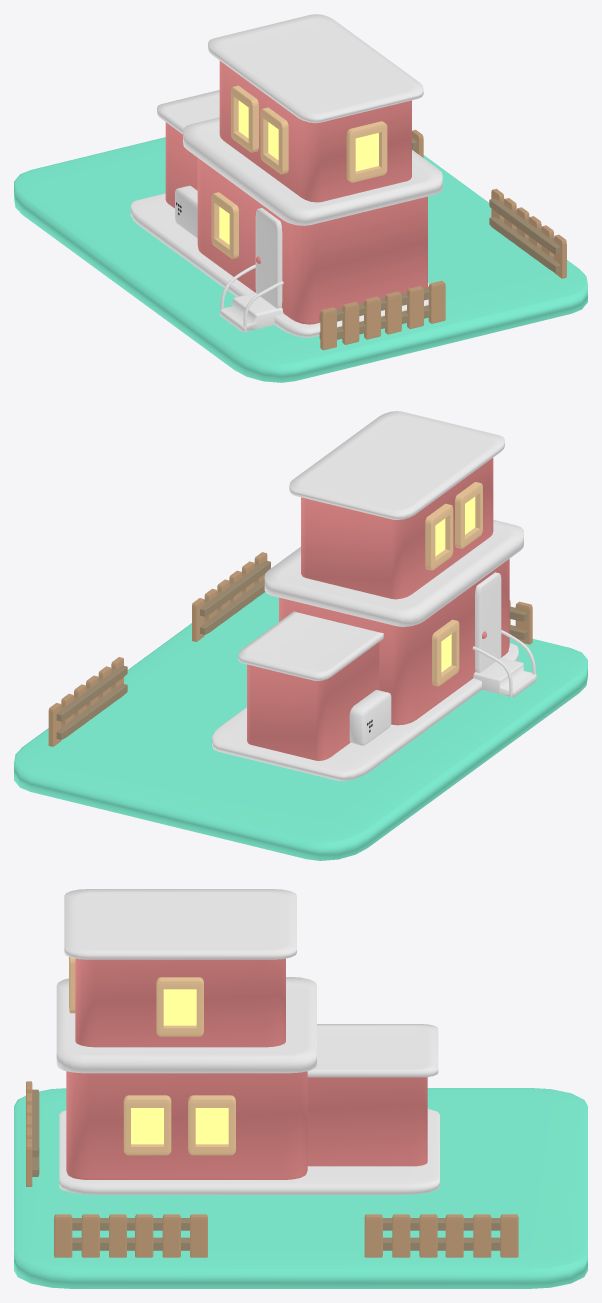
Rendered from house3.glb.
3 views of the same model, one above another, from view 1: azimuth 30°, elevation 25°; view 2: azimuth 150°, elevation 25°; view 3: azimuth 270°, elevation 25° (orthographic). The views are drawn at different scales.
Parts seen in each view (by area): view 1: Roundcube.010, Roundcube, Roundcube.001, Roundcube.009, Roundcube.002, Roundcube.003, Roundcube.005, Roundcube.004, Roundcube.006, Roundcube.007, Roundcube.008, Circle.001 (+9 smaller); view 2: Roundcube.010, Roundcube.001, Roundcube, Roundcube.002, Roundcube.009, Roundcube.003, Circle.001, Roundcube.006, Roundcube.004, Roundcube.007, Roundcube.008, Roundcube.029 (+3 smaller); view 3: Roundcube.010, Roundcube.001, Roundcube, Roundcube.002, Roundcube.009, Roundcube.035, Roundcube.036, Roundcube.037, Roundcube.025, Roundcube.020, Roundcube.034, Roundcube.033 (+13 smaller).
Part boxes in pixels (<box>): Roundcube.010: <box>14,137,587,382</box>; Roundcube: <box>183,117,442,324</box>; Roundcube.001: <box>208,14,423,202</box>; Roundcube.009: <box>130,193,429,337</box>; Roundcube.002: <box>157,90,219,208</box>; Roundcube.003: <box>255,208,282,308</box>; Roundcube.005: <box>346,121,387,182</box>; Roundcube.004: <box>260,107,288,174</box>; Roundcube.006: <box>231,85,258,152</box>; Roundcube.007: <box>211,192,238,258</box>; Roundcube.008: <box>220,292,283,332</box>; Circle.001: <box>175,185,197,238</box>; Roundcube.010: <box>14,592,587,860</box>; Roundcube.001: <box>289,411,504,599</box>; Roundcube: <box>264,519,523,725</box>; Roundcube.002: <box>238,611,383,760</box>; Roundcube.009: <box>212,643,518,781</box>; Roundcube.003: <box>475,572,501,672</box>; Circle.001: <box>349,690,391,745</box>; Roundcube.006: <box>425,503,453,570</box>; Roundcube.004: <box>455,482,482,548</box>; Roundcube.007: <box>432,619,459,686</box>; Roundcube.008: <box>473,657,536,697</box>; Roundcube.029: <box>56,665,127,721</box>; Roundcube.010: <box>14,1088,587,1288</box>; Roundcube.001: <box>64,889,296,1047</box>; Roundcube: <box>56,977,316,1179</box>; Roundcube.002: <box>307,1024,438,1166</box>; Roundcube.009: <box>59,1108,439,1194</box>; Roundcube.035: <box>123,1095,171,1155</box>; Roundcube.036: <box>188,1095,235,1155</box>; Roundcube.037: <box>156,977,203,1036</box>; Roundcube.025: <box>54,1214,72,1257</box>; Roundcube.020: <box>162,1214,180,1257</box>; Roundcube.034: <box>445,1214,463,1257</box>; Roundcube.033: <box>473,1214,491,1257</box>.
Size of the model in its own units: 7.54 by 4.96 by 10.04.
